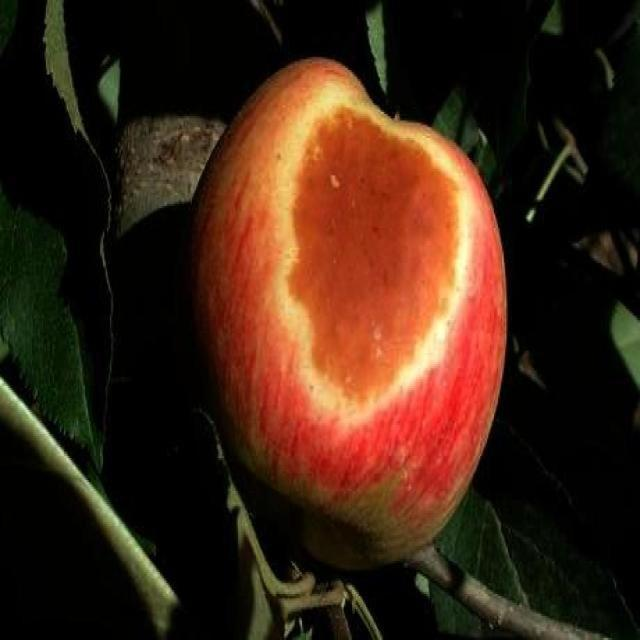Sunscald Fruit: (180, 50, 311, 284)
